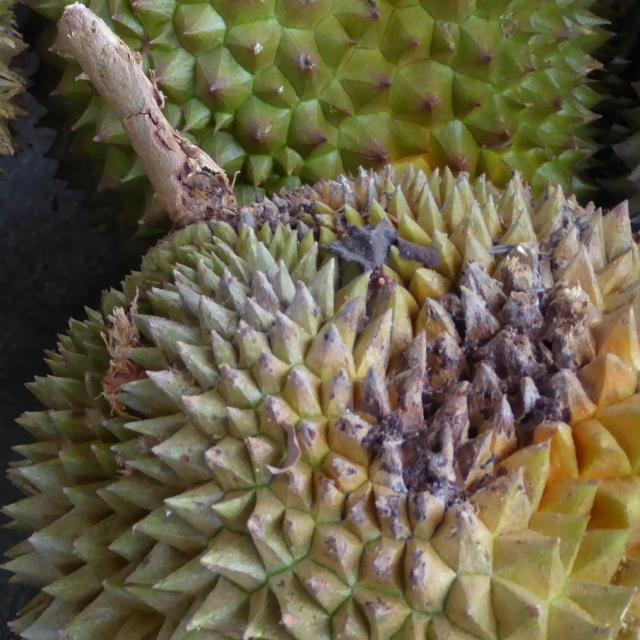defective: (12, 150, 640, 640)
